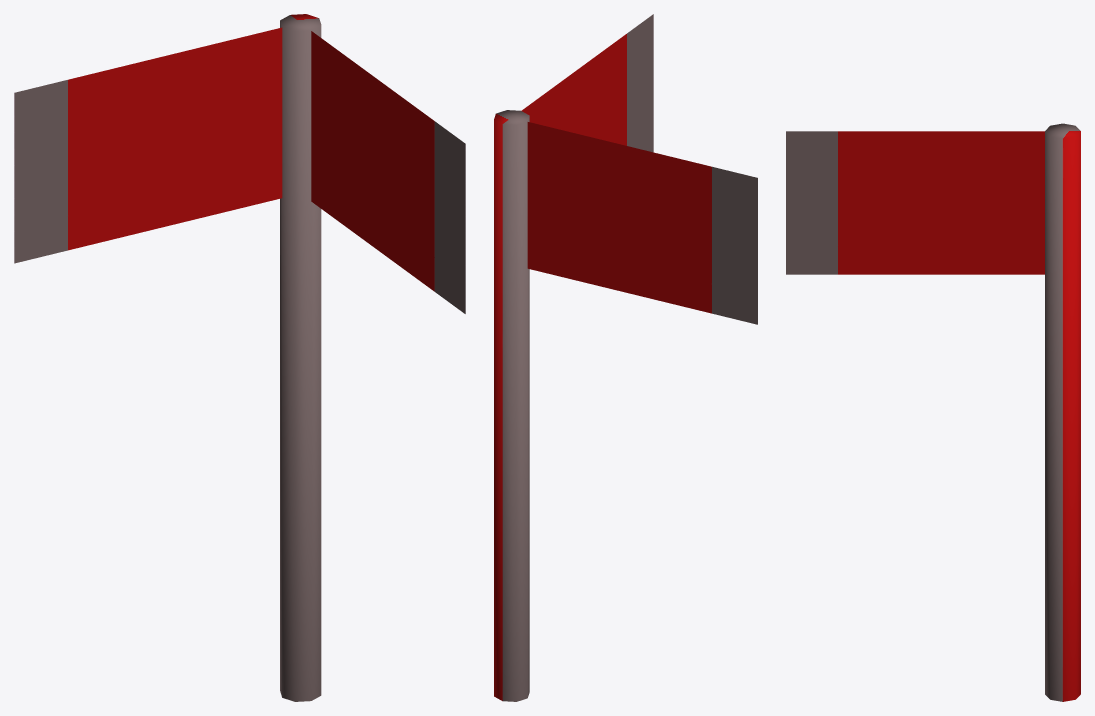
File: InvertedStreetSign.fbx
The picture shows the model from 3 angles, left to right: view 1: azimuth 30°, elevation 25°; view 2: azimuth 150°, elevation 25°; view 3: azimuth 270°, elevation 25°; orthographic projection. The views are drawn at different scales.
Parts seen in each view (by area): view 1: StreetSign; view 2: StreetSign; view 3: StreetSign.
Boxes of the visible parts, <box> form: StreetSign: <box>14,14,465,701</box>; StreetSign: <box>494,14,757,701</box>; StreetSign: <box>786,123,1080,701</box>.
Bounding box in the file's own units: 103 × 216 × 102.
